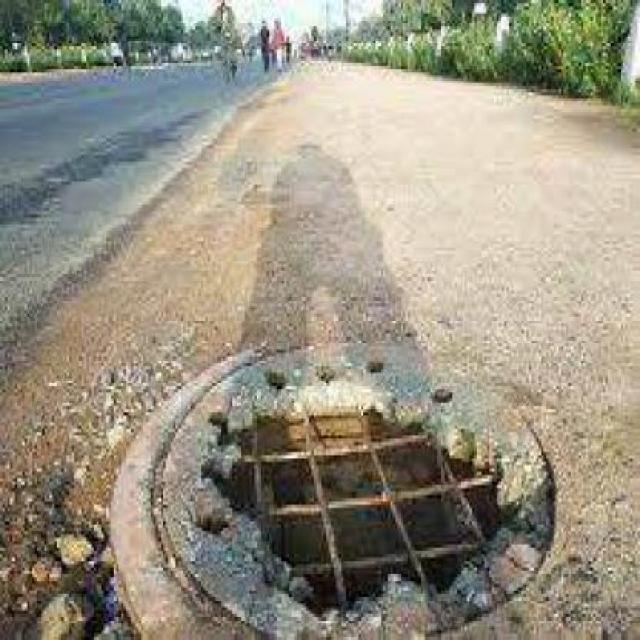Manhole: (149, 331, 574, 640)
